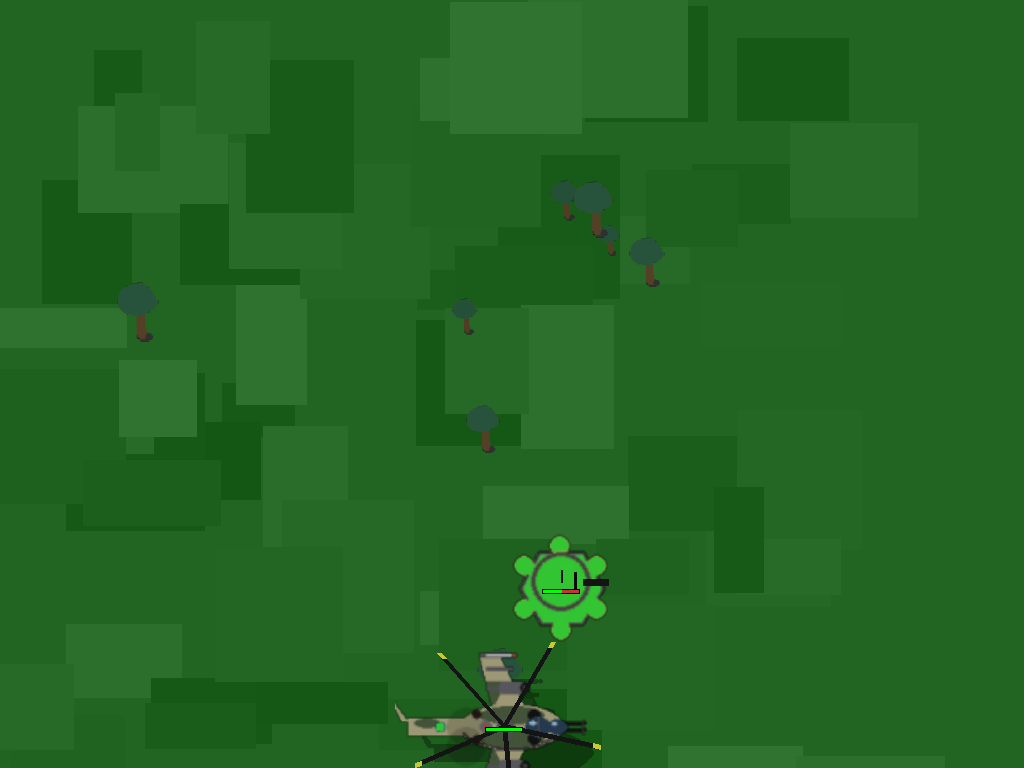Bunker: (509, 537, 611, 639)
Mi24: (453, 674, 555, 768)
